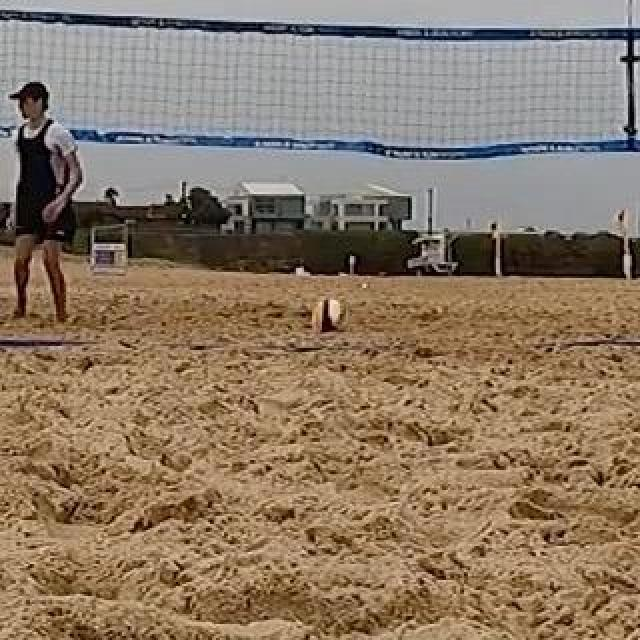volleyball: (311, 299, 345, 331)
